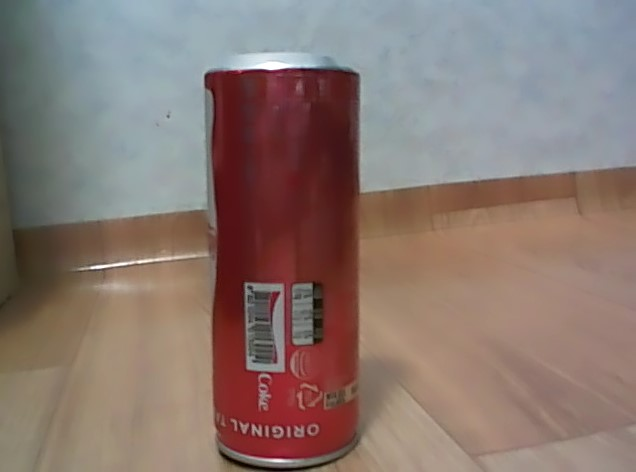Can: (200, 47, 366, 471)
